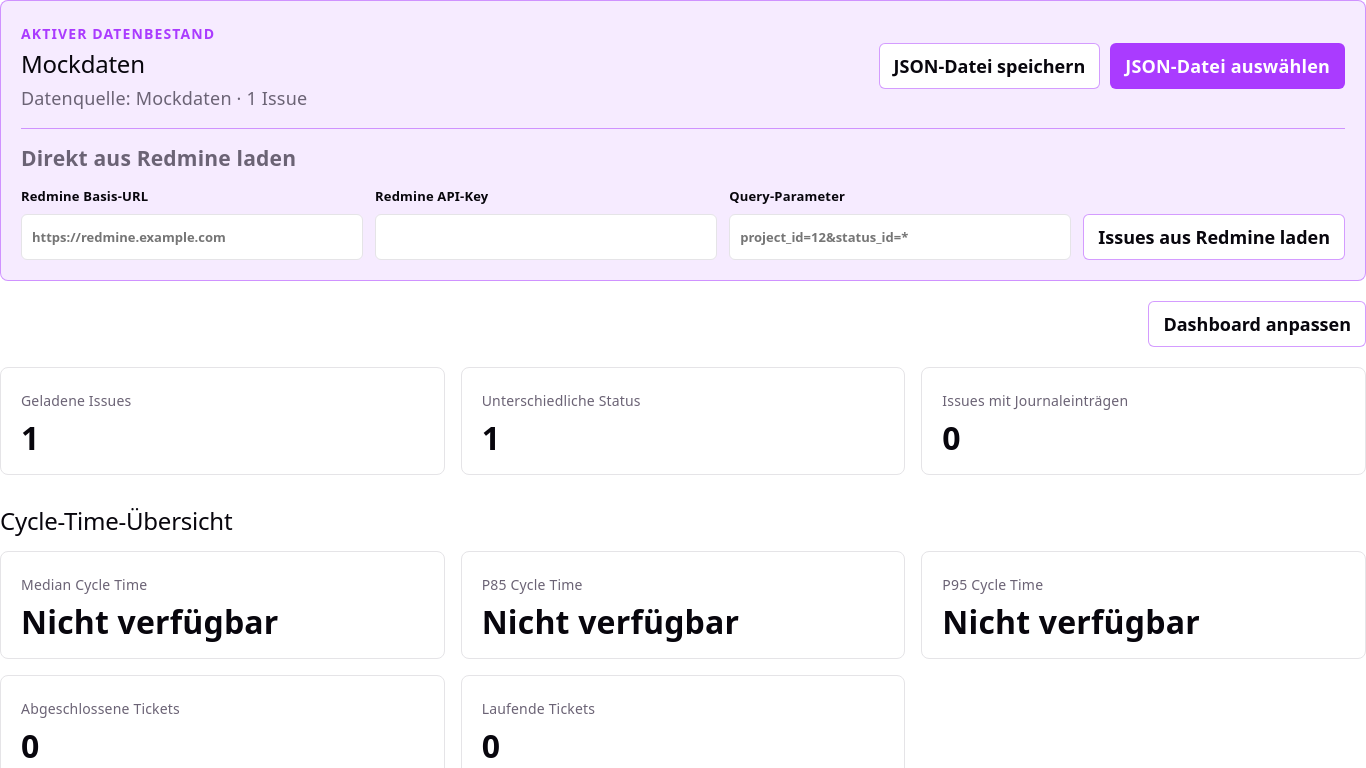
Dashboard visibility settings › stores independent changes and restores stored visibility on load
Expected: the heading "Throughput Verteilung" is not shown
Click the button "Dashboard anpassen". click: click(1257, 324)
box: [1148, 301, 1365, 347]
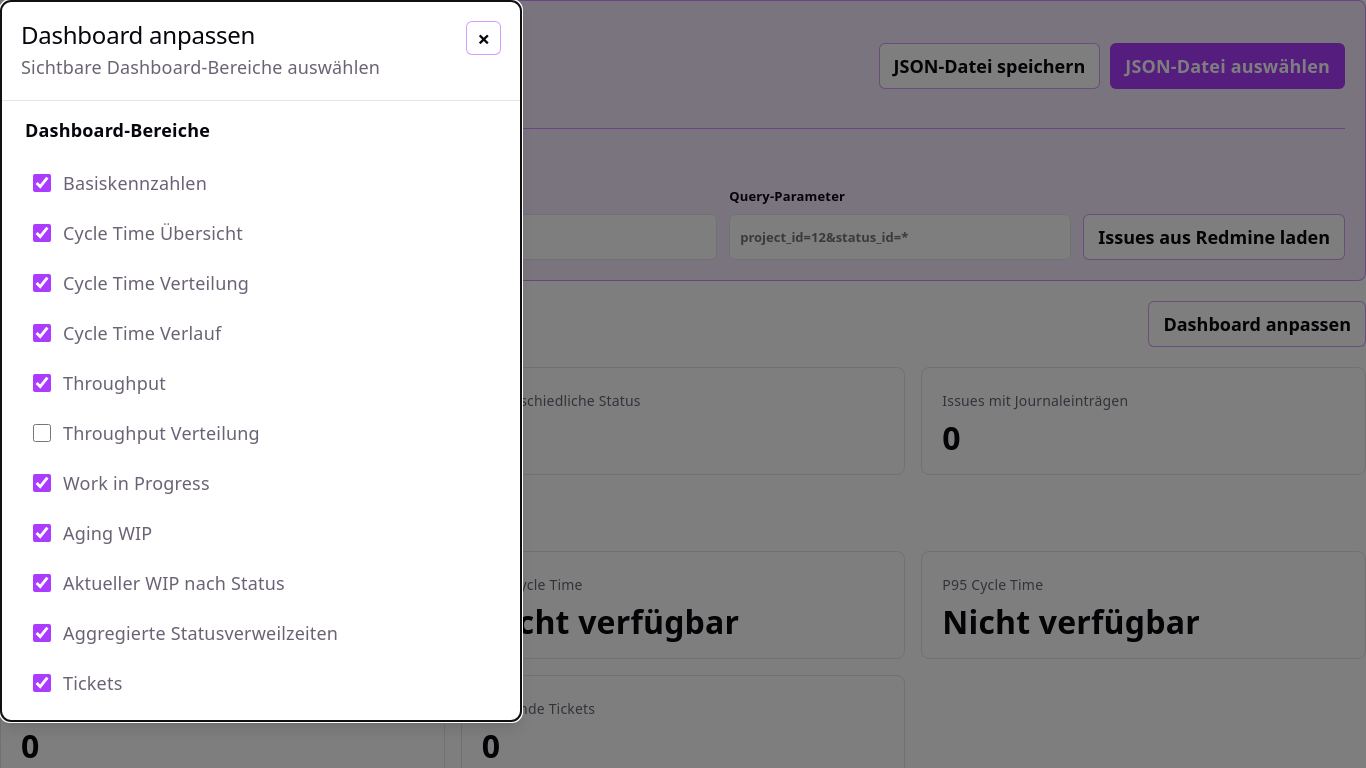
Expected: the checkbox labelled "Throughput Verteilung" is not checked
Click the checkbox labelled "Throughput Verteilung". click: click(42, 433)
box: [33, 424, 51, 442]
(page scrolled)
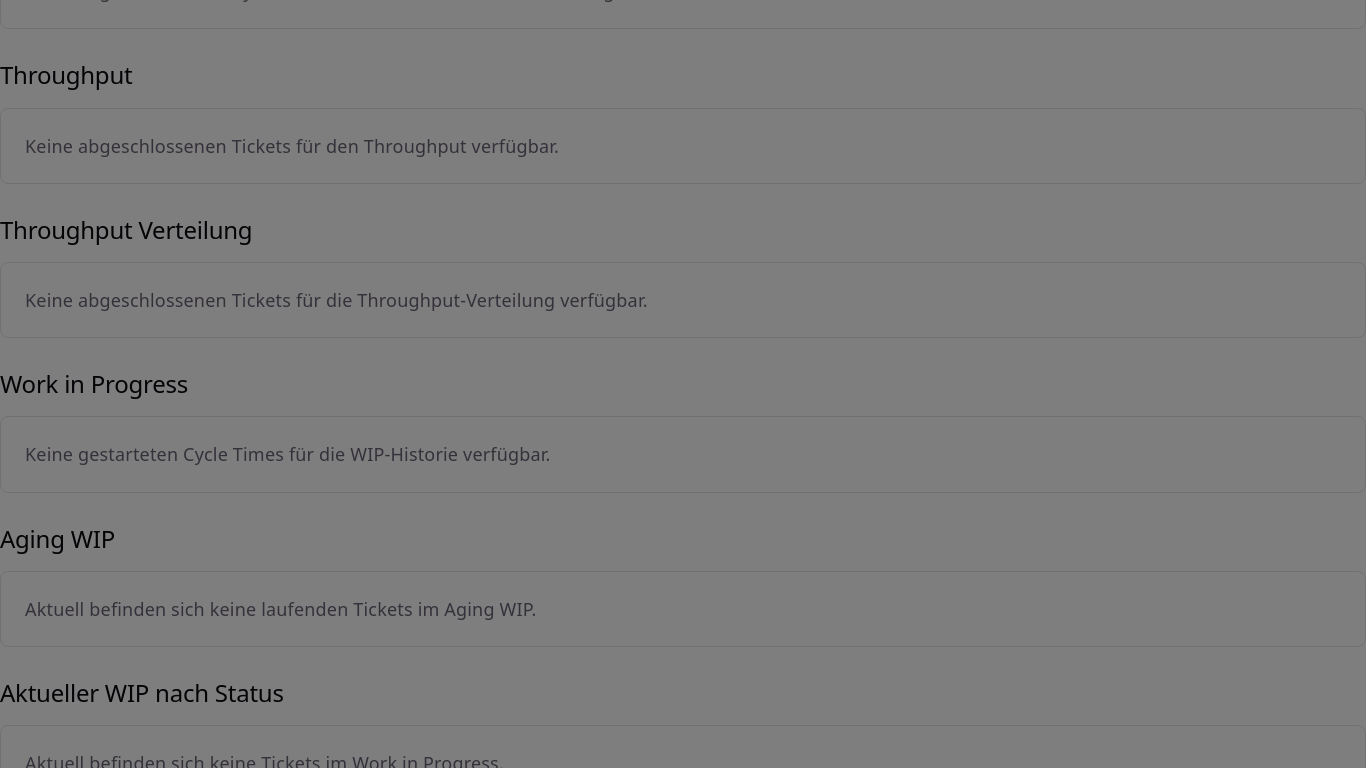
Expected: the heading "Work in Progress" is shown, [0, 367, 188, 400]
Expected: the heading "Throughput Verteilung" is shown, [0, 213, 252, 246]
